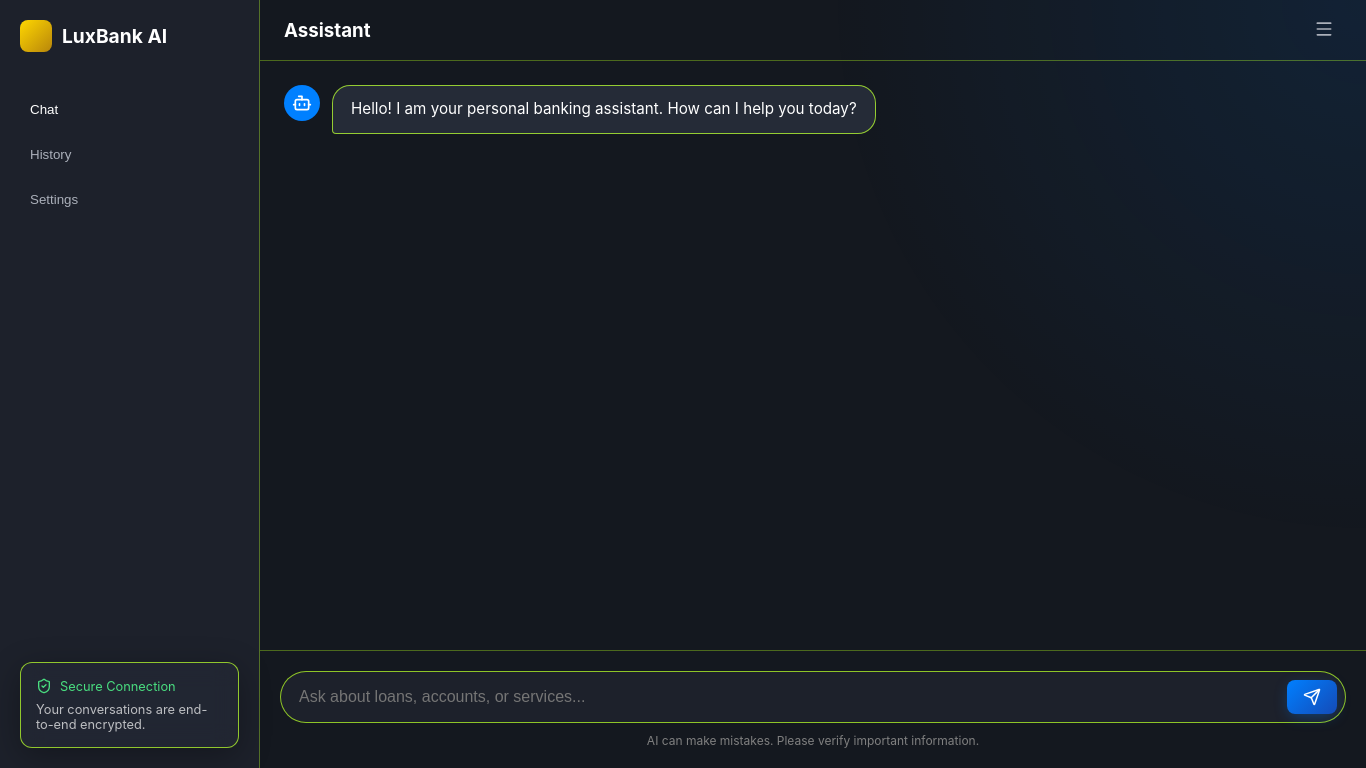
App Component › renders a user message when sending
# Type in the input
In the field with placeholder "Ask about loans, accounts, or services...": (786, 697) [297, 687, 1275, 707], type "How to apply for a loan?"
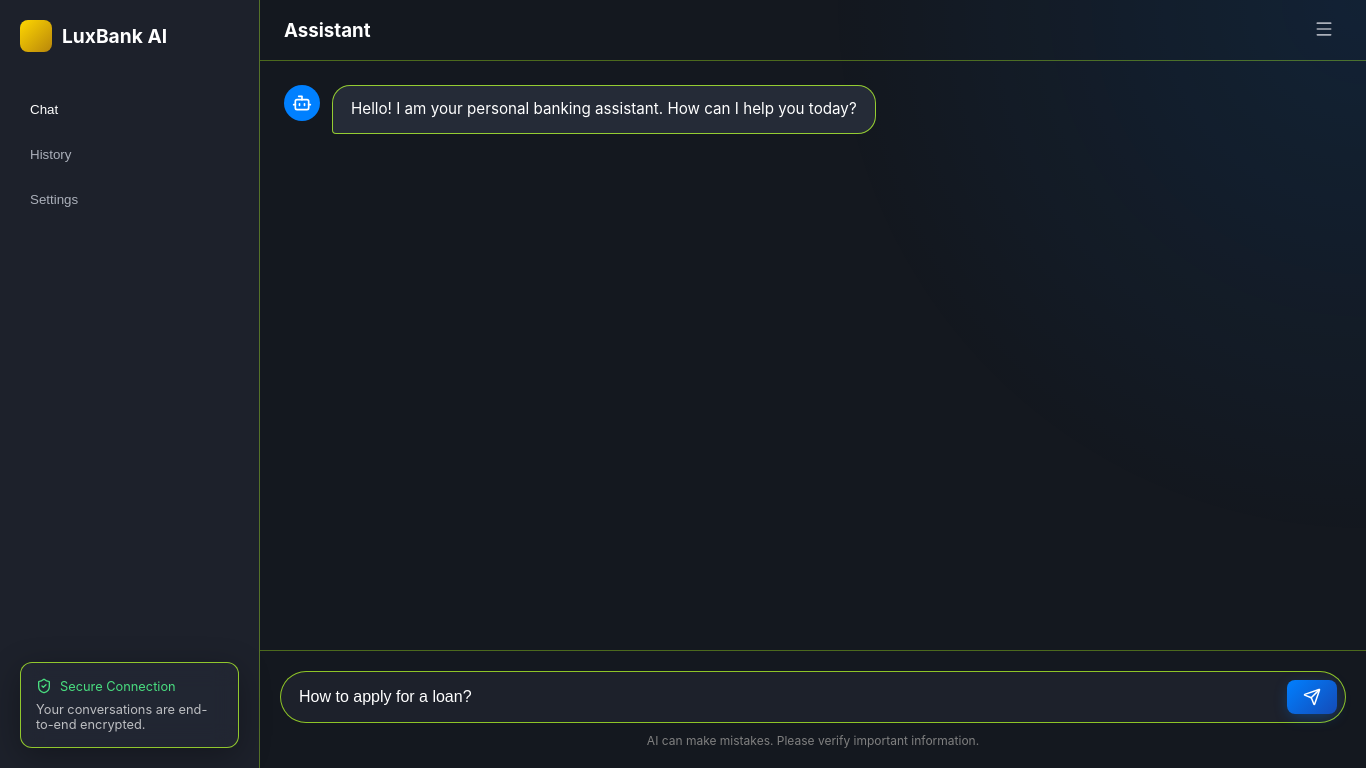
Click the 5th button: click(1312, 697) [1287, 680, 1337, 714]
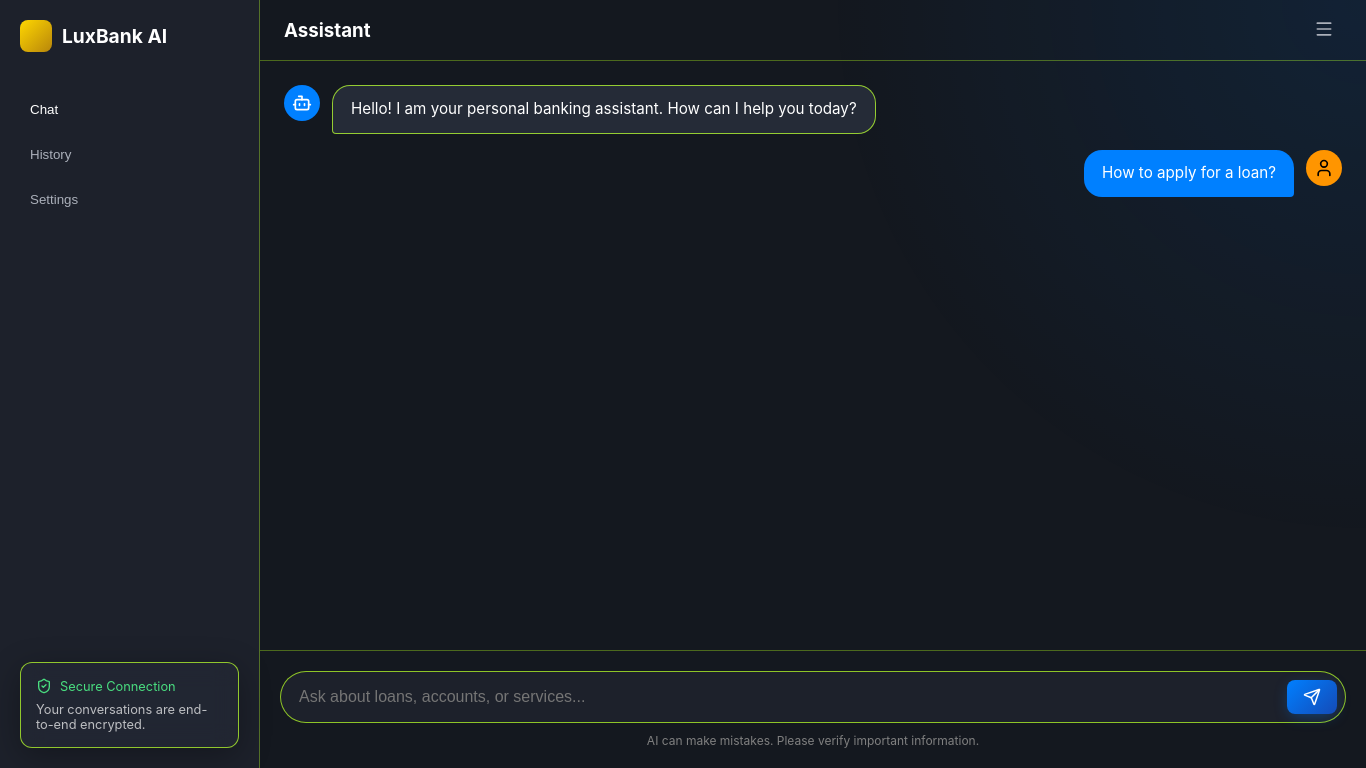
Expected: the text "How to apply for a loan?" is shown, [1084, 150, 1294, 197]
